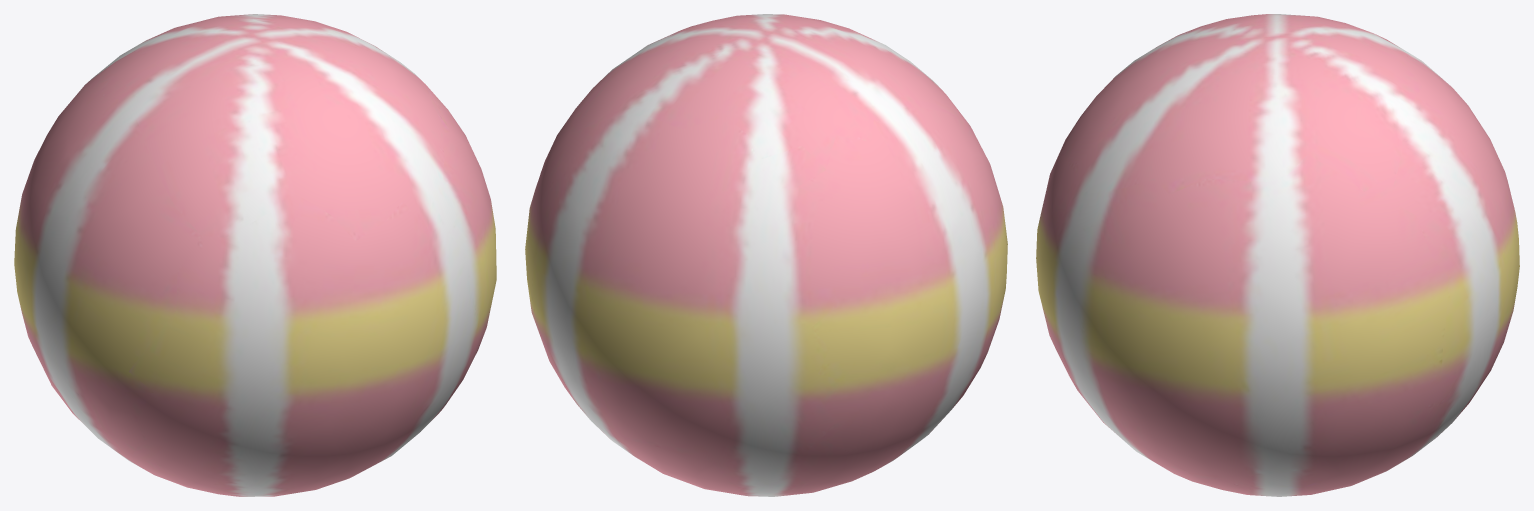
File: ball.glb
3 renders of one model, left to right at view 1: azimuth 30°, elevation 25°; view 2: azimuth 150°, elevation 25°; view 3: azimuth 270°, elevation 25°, orthographic.
Visible parts, largest first — view 1: ball.001; view 2: ball.001; view 3: ball.001.
Part boxes in pixels (x1,y1,x2,y2): ball.001: (14, 14, 496, 496); ball.001: (525, 14, 1007, 496); ball.001: (1036, 14, 1519, 496).
Size of the model in its own units: 0.0699 by 0.07 by 0.07.
1 material, 1 textured.
